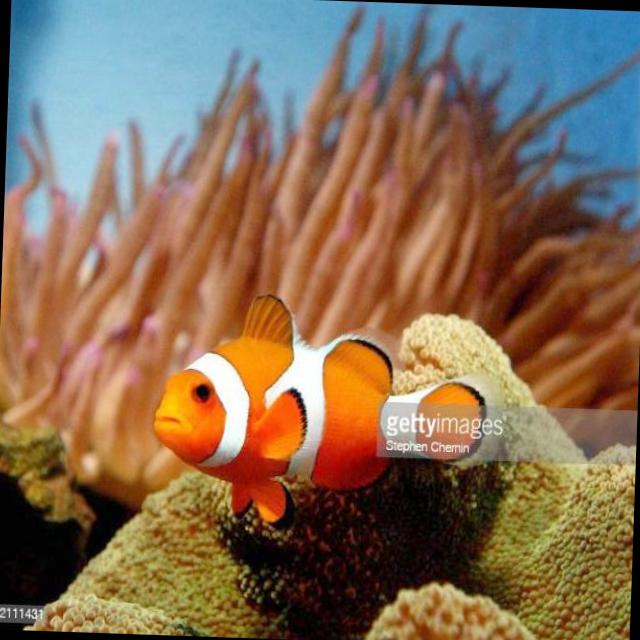ClownFish: (150, 284, 504, 534)
